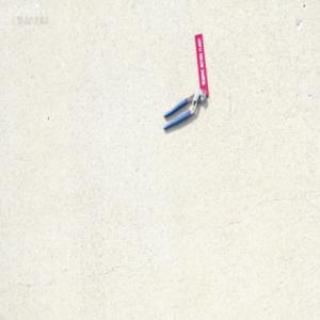LuggageTagtrack_idkeyframe: (193, 32, 209, 96)
Pliertrack_idkeyframe: (162, 87, 206, 130)
